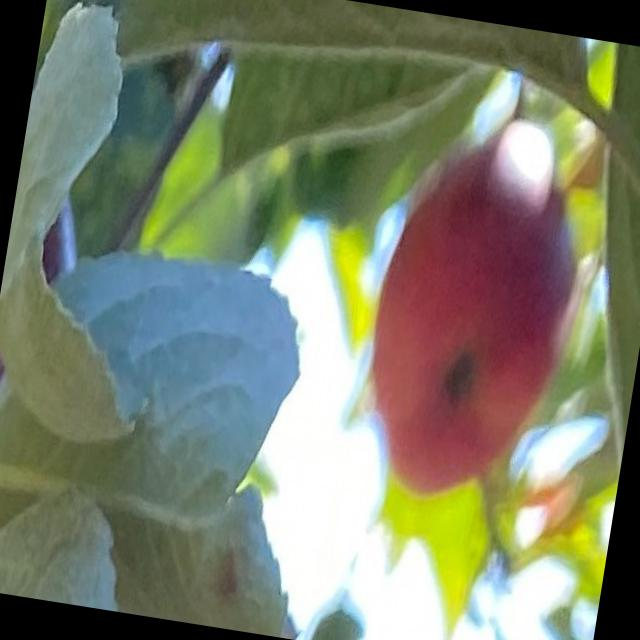Apples: (350, 101, 598, 510)
